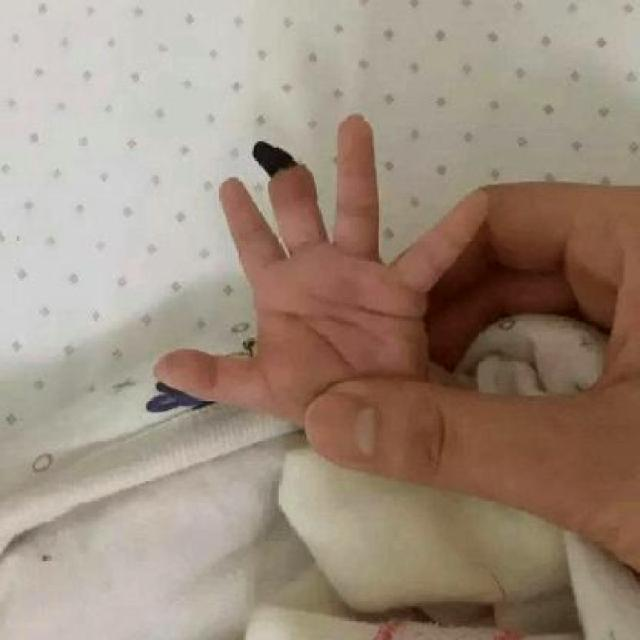hand_noglove: (305, 177, 640, 554), (152, 112, 499, 416)
